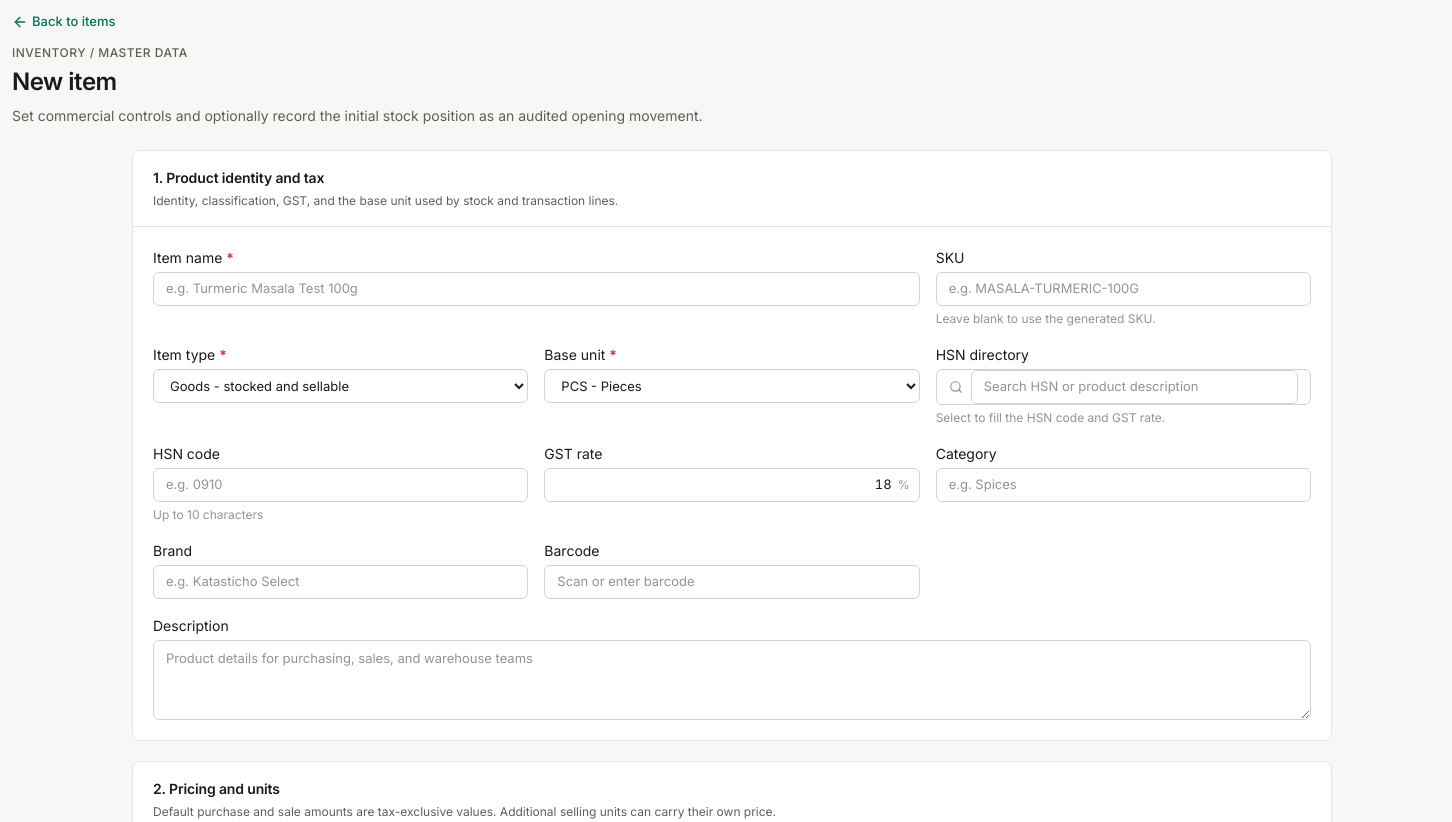
Scenario: ItemFormPage › keeps GST editable when GSTN has the HSN but no configured rate
This screenshot has width=1452, height=822.
Type "turmeric" into the dropdown named "Search HSN directory" at (1134, 387), box x1=971 y1=370 x2=1298 y2=404
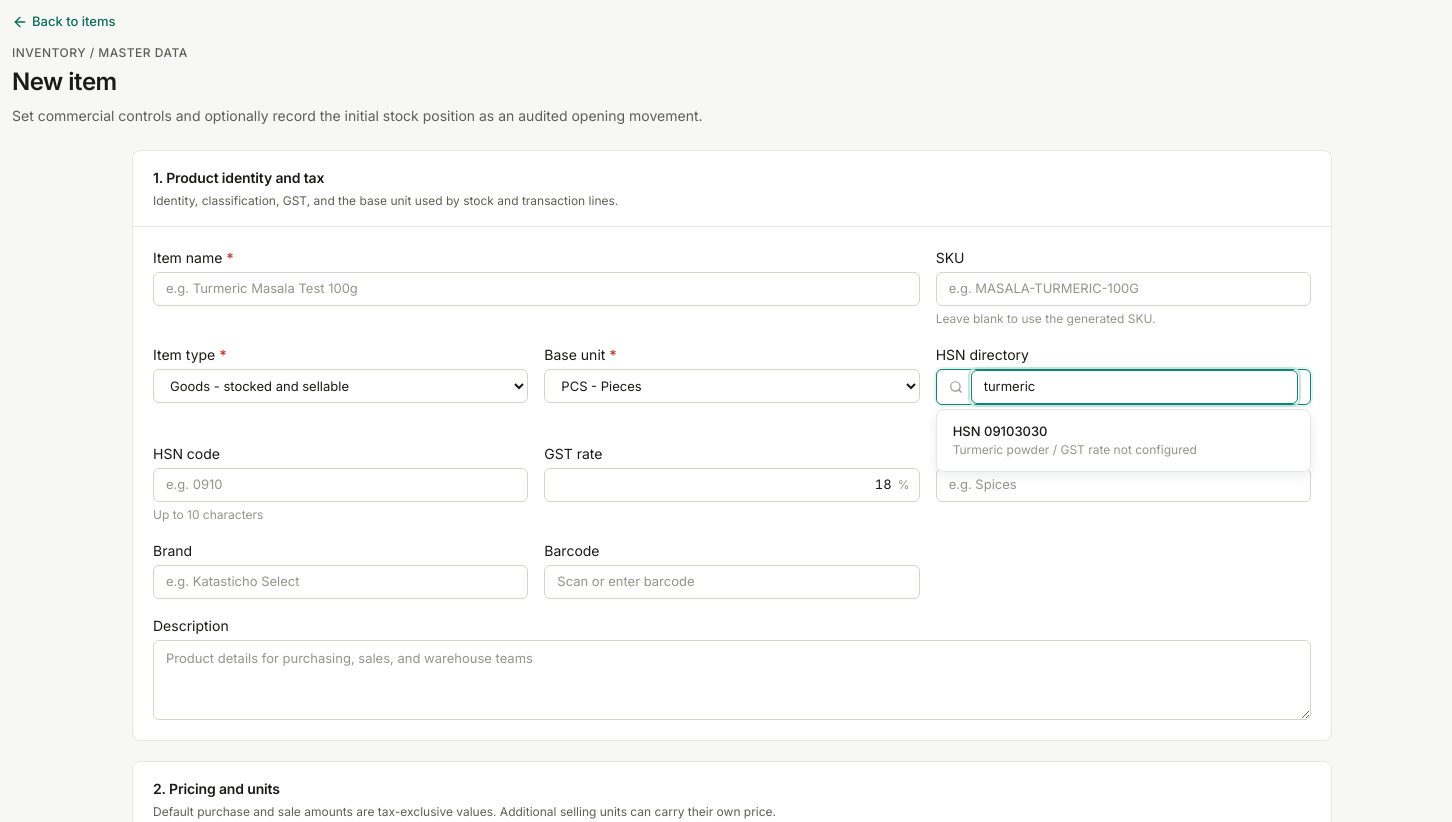
Click the option "HSN 09103030 Turmeric powder / GST rate not configured" at (1075, 440), box x1=953 y1=423 x2=1197 y2=457
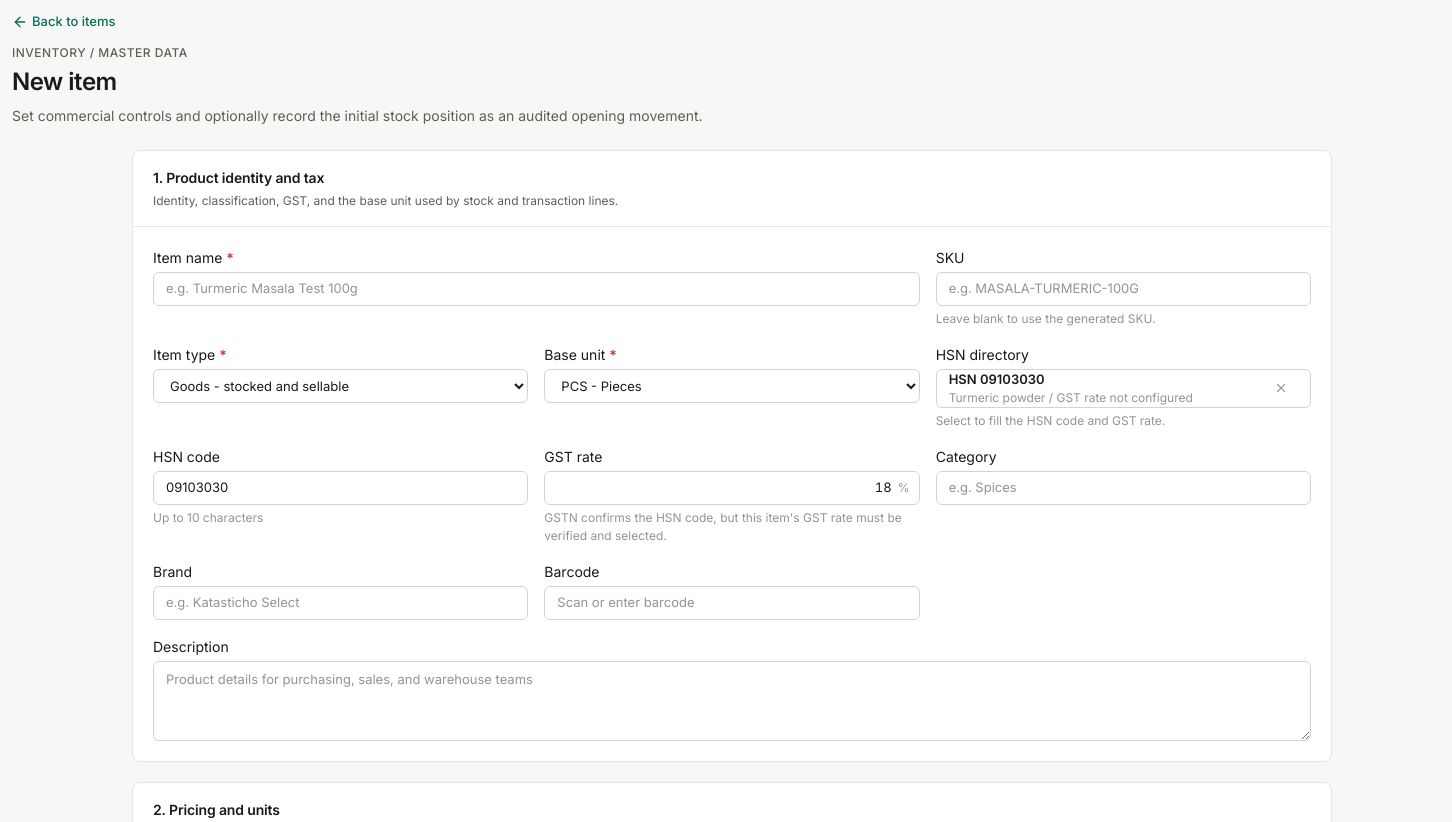
Expected: the number field labelled "GST rate" holds "18", x1=544 y1=471 x2=920 y2=505
Expected: the field labelled "HSN code" holds "09103030", x1=153 y1=471 x2=528 y2=505
Expected: the text "GST rate must be verified and selected" is shown, x1=544 y1=510 x2=902 y2=543
